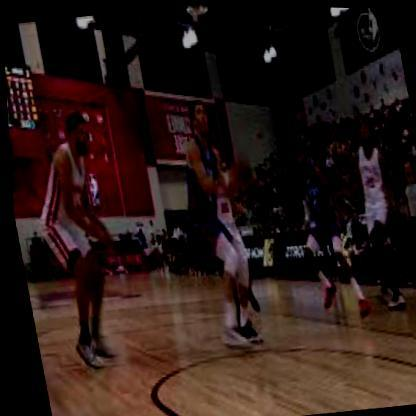basketball: (224, 153, 251, 193)
